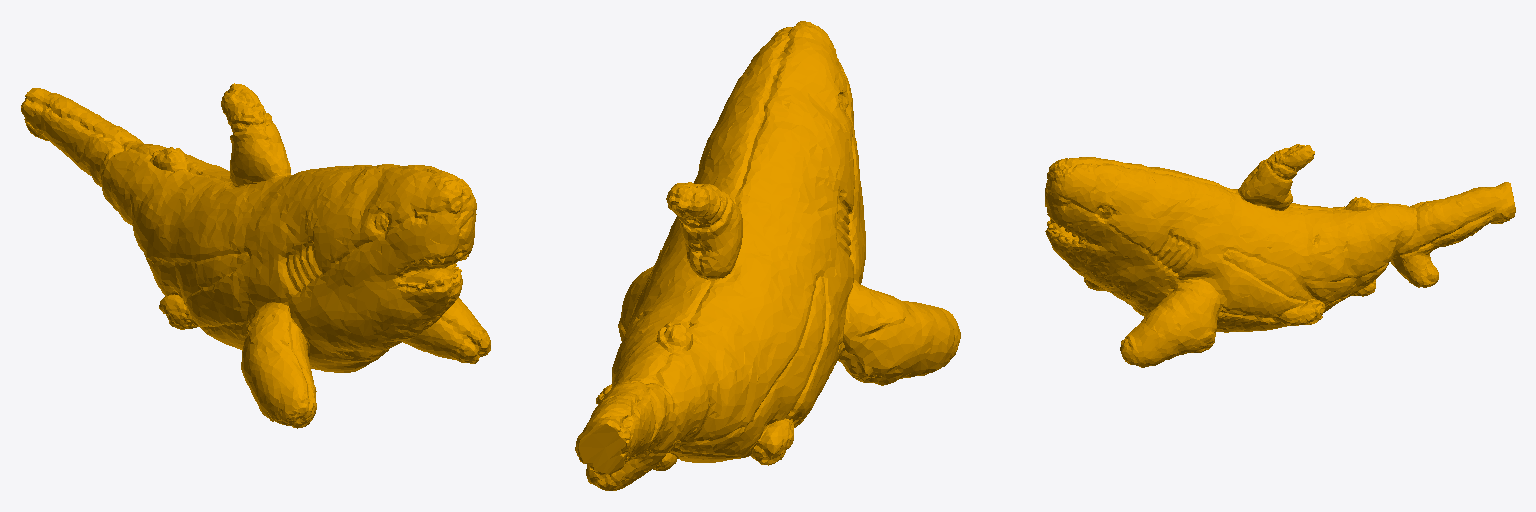
robot.urdf — 2dvafvp8:
<?xml version='1.0'?>

<robot name="2dvafvp8">
    <static>false</static>
    <link name="link">
        <inertial>
            <mass value="0.14506569679711134"/>
            <inertia ixx="0.0001256564228785923" ixy="1.8584911554406817e-05" ixz="-3.4478025580834336e-06"
                     iyy="4.037354486141169e-05" iyz="1.2574757494083162e-05" izz="0.00012101530728712308"/>
        </inertial>
        <collision name="collision">
            <geometry>
                <mesh filename="package://miscnet/train/2dvafvp8/collision_model_vhacd.obj"/>
            </geometry>
        </collision>
        <visual name="visual">
            <geometry>
                <mesh filename="package://miscnet/train/2dvafvp8/visual_model.obj"/>
            </geometry>
        </visual>
    </link>
</robot>

--- Facts derived from the render (not from the file) ---
Views: 3 orthographic renders of the robot side by side, from view 1: azimuth 30°, elevation 25°; view 2: azimuth 150°, elevation 25°; view 3: azimuth 270°, elevation 25°.
Robot: 2dvafvp8 — 1 links, 0 joints (none); root link link; default pose: every joint at zero.
Links seen in each view (by area): view 1: link; view 2: link; view 3: link.
Link boxes in pixels (box(x1,y1,x2,y2)): link: box(21, 83, 490, 428); link: box(575, 21, 960, 490); link: box(1045, 144, 1515, 367).
Bounding box of the posed robot: 0.0615 × 0.1355 × 0.0564 m (x, y, z).
Meshes: 1 distinct files referenced, 1 mesh visuals loaded (1 OBJ).
